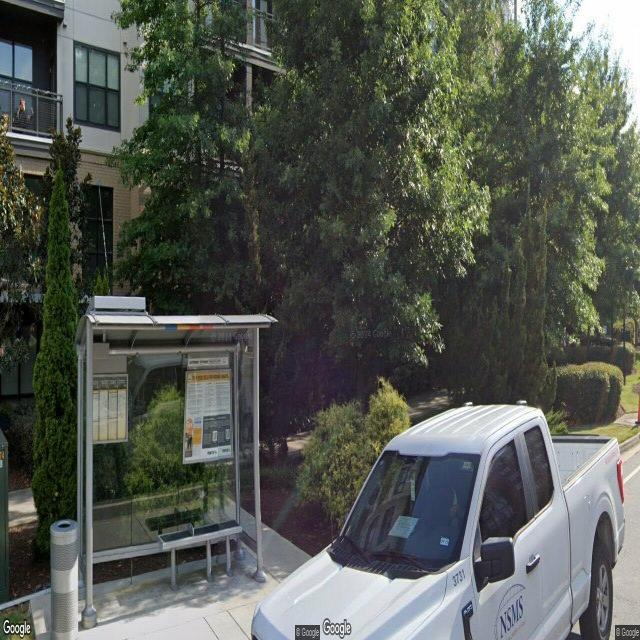seating: (158, 515, 242, 592)
shelter: (76, 310, 278, 622)
trash_can: (48, 520, 78, 640)
